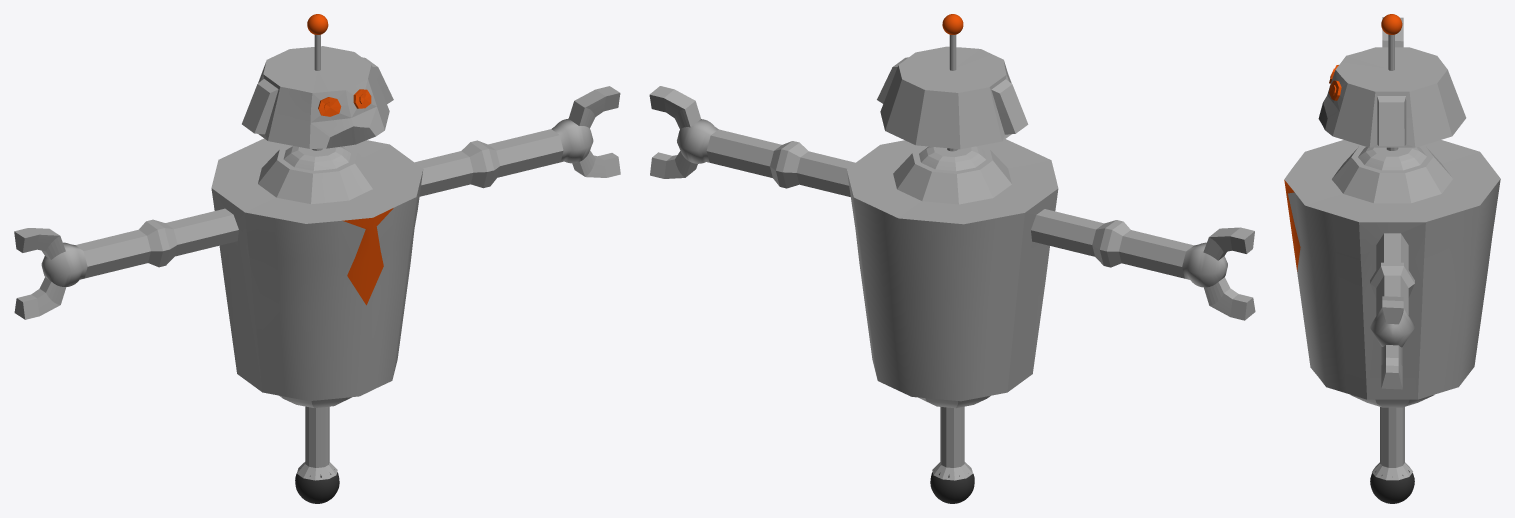
Rendered from RobotEnemy.fbx.
3 views of the same model, side by side, from view 1: azimuth 30°, elevation 25°; view 2: azimuth 150°, elevation 25°; view 3: azimuth 270°, elevation 25° (orthographic).
Parts seen in each view (by area): view 1: pSphere6; view 2: pSphere6; view 3: pSphere6.
Boxes of the visible parts, x1,y1,x2,y2 form: pSphere6: (14, 14, 620, 503); pSphere6: (649, 14, 1255, 503); pSphere6: (1284, 14, 1500, 503).
Size of the model in its own units: 30.73 by 24.02 by 9.68.
